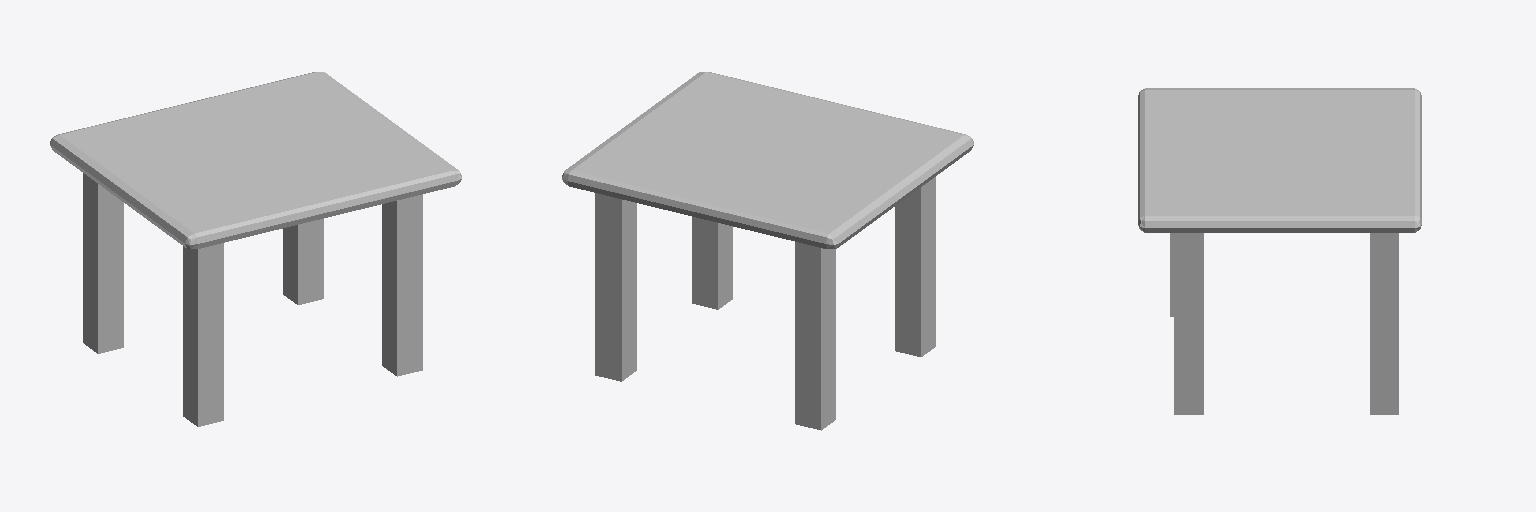
The model's file is Стул.obj.
3 renders of one model, left to right at view 1: azimuth 30°, elevation 25°; view 2: azimuth 150°, elevation 25°; view 3: azimuth 270°, elevation 25°, orthographic.
Parts seen in each view (by area): view 1: ??????????, Box005, Box006, Box004, ?????_?????; view 2: ??????????, ?????_?????, Box004, Box005, Box006; view 3: ??????????, Box006, ?????_?????.
Boxes of the visible parts, box(x1,y1,x2,y2) form: ??????????: box(50, 72, 461, 248); Box005: box(183, 243, 223, 426); Box006: box(382, 194, 422, 376); Box004: box(83, 173, 123, 353); ?????_?????: box(283, 219, 323, 304); ??????????: box(562, 72, 973, 248); ?????_?????: box(595, 193, 636, 381); Box004: box(795, 242, 835, 430); Box005: box(895, 177, 935, 356); Box006: box(692, 217, 732, 309); ??????????: box(1138, 88, 1421, 232); Box006: box(1174, 233, 1203, 414); ?????_?????: box(1370, 233, 1398, 414).
Bounding box in the file's own units: 9.97 × 7.12 × 8.87.